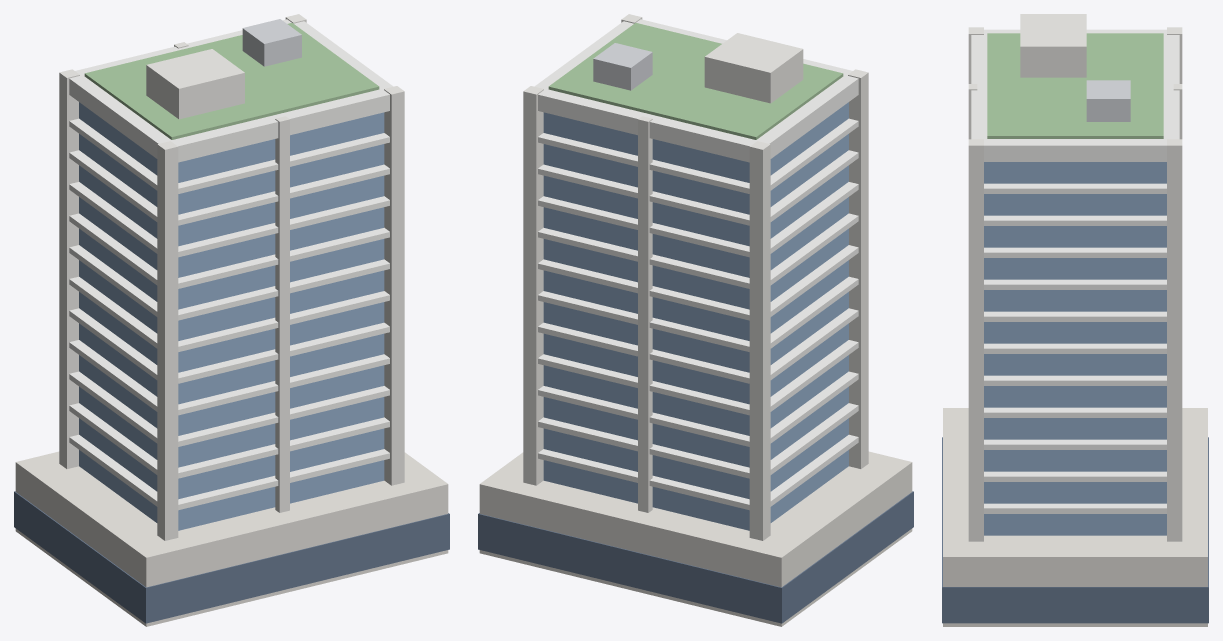
The model's file is tower-m.glb.
The picture shows the model from 3 angles, left to right: view 1: azimuth 30°, elevation 25°; view 2: azimuth 150°, elevation 25°; view 3: azimuth 270°, elevation 25°; orthographic projection.
Visible parts, largest first — view 1: tower; view 2: tower; view 3: tower.
Boxes of the visible parts, x1,y1,x2,y2 form: tower: (14, 14, 449, 626); tower: (478, 14, 913, 626); tower: (942, 14, 1208, 626).
Size of the model in its own units: 32.2 by 49.9 by 24.2.
